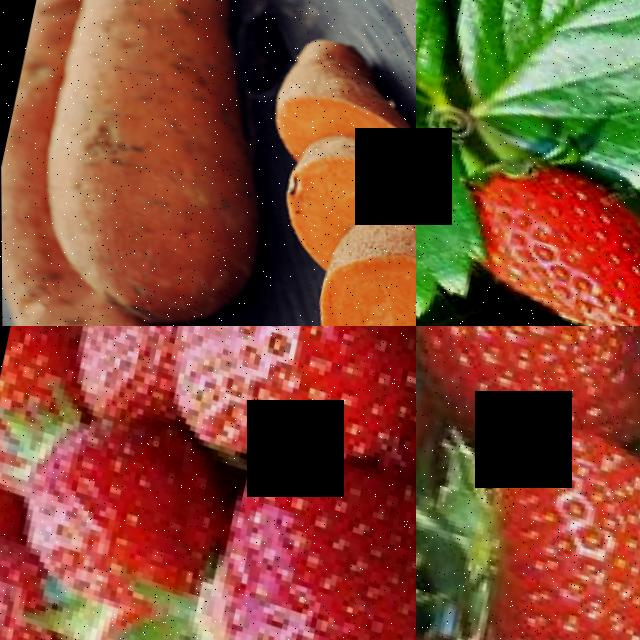strawberry: (432, 393, 640, 640), (14, 400, 219, 612), (197, 441, 414, 640), (160, 326, 416, 446), (474, 142, 640, 326), (416, 326, 640, 440), (58, 326, 195, 423)
sweet potato: (20, 0, 313, 326), (265, 11, 416, 149), (292, 191, 416, 326), (1, 267, 205, 326)
